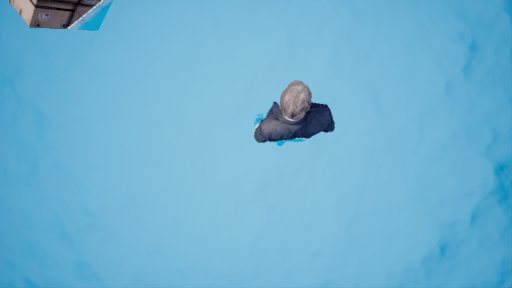person: (253, 84, 332, 148)
